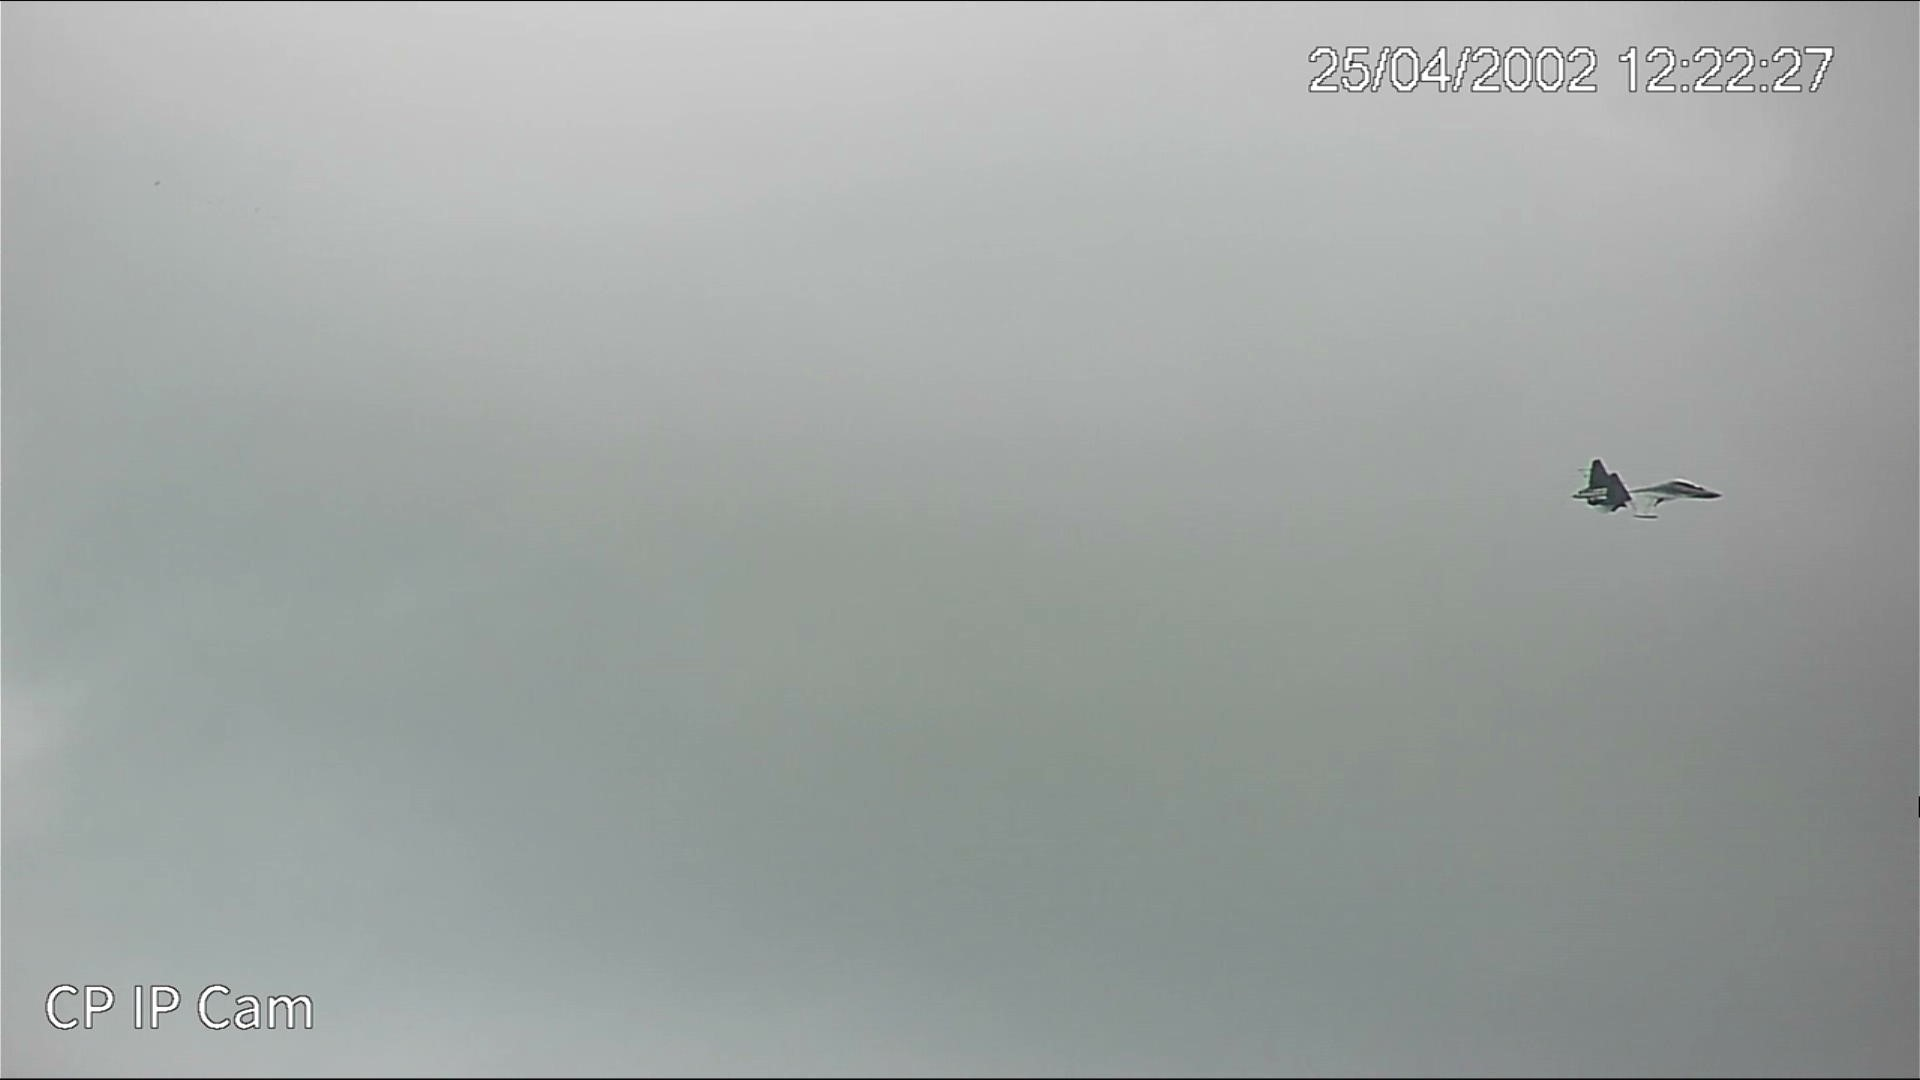SU_30: (1568, 459, 1727, 526)
